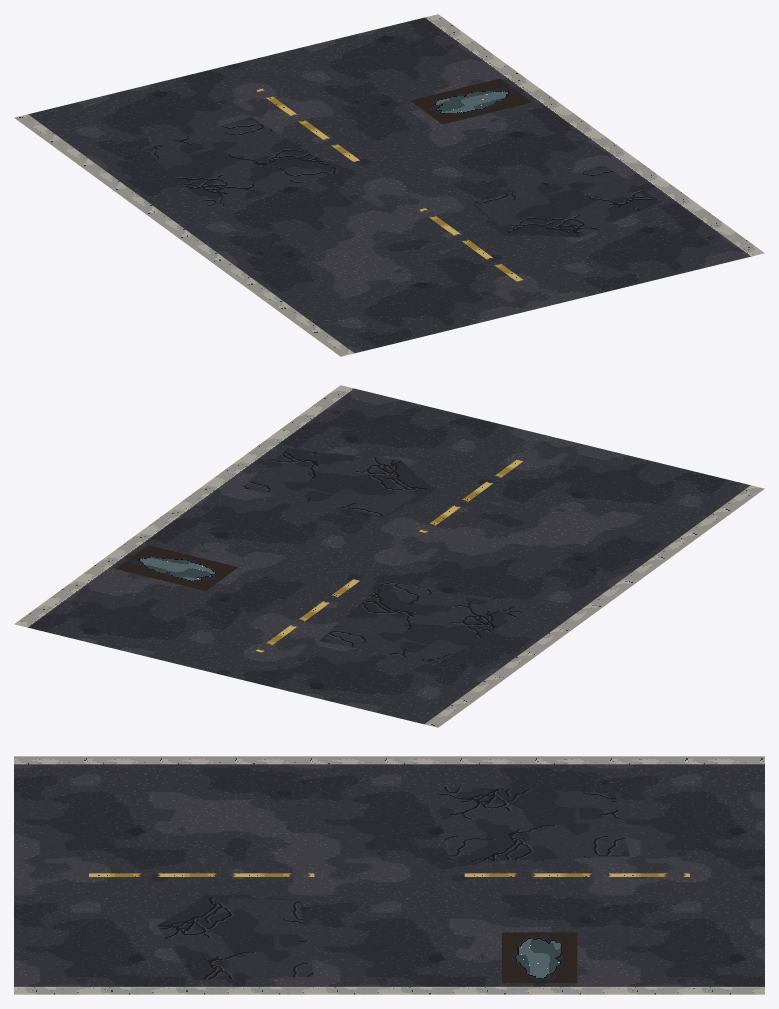
File: RD_Straight_2Lane_10m_Patched.obj
The picture shows the model from 3 angles, top to bottom: view 1: azimuth 30°, elevation 25°; view 2: azimuth 150°, elevation 25°; view 3: azimuth 270°, elevation 25°; orthographic projection. The views are drawn at different scales.
Parts seen in each view (by area): view 1: RD_Straight_2Lane_10m_Patched_Mesh_M_Road_Asphalt, RD_Straight_2Lane_10m_Patched_Mesh_M_Road_RoadPatch, RD_Straight_2Lane_10m_Patched_Mesh_M_Road_CurbConcrete, RD_Straight_2Lane_10m_Patched_Mesh_M_Town_Puddle, RD_Straight_2Lane_10m_Patched_Mesh_M_Road_MarkingYellow; view 2: RD_Straight_2Lane_10m_Patched_Mesh_M_Road_Asphalt, RD_Straight_2Lane_10m_Patched_Mesh_M_Road_RoadPatch, RD_Straight_2Lane_10m_Patched_Mesh_M_Road_CurbConcrete, RD_Straight_2Lane_10m_Patched_Mesh_M_Town_Puddle, RD_Straight_2Lane_10m_Patched_Mesh_M_Road_MarkingYellow; view 3: RD_Straight_2Lane_10m_Patched_Mesh_M_Road_Asphalt, RD_Straight_2Lane_10m_Patched_Mesh_M_Road_RoadPatch, RD_Straight_2Lane_10m_Patched_Mesh_M_Road_CurbConcrete, RD_Straight_2Lane_10m_Patched_Mesh_M_Town_Puddle, RD_Straight_2Lane_10m_Patched_Mesh_M_Road_MarkingYellow.
Boxes of the visible parts, box(x1,y1,x2,y2) form: RD_Straight_2Lane_10m_Patched_Mesh_M_Road_Asphalt: box(28, 17, 750, 353); RD_Straight_2Lane_10m_Patched_Mesh_M_Road_RoadPatch: box(144, 117, 660, 237); RD_Straight_2Lane_10m_Patched_Mesh_M_Road_CurbConcrete: box(14, 14, 764, 356); RD_Straight_2Lane_10m_Patched_Mesh_M_Town_Puddle: box(410, 78, 532, 124); RD_Straight_2Lane_10m_Patched_Mesh_M_Road_MarkingYellow: box(256, 89, 522, 281); RD_Straight_2Lane_10m_Patched_Mesh_M_Road_Asphalt: box(28, 388, 750, 724); RD_Straight_2Lane_10m_Patched_Mesh_M_Road_RoadPatch: box(241, 448, 527, 663); RD_Straight_2Lane_10m_Patched_Mesh_M_Road_CurbConcrete: box(14, 385, 764, 727); RD_Straight_2Lane_10m_Patched_Mesh_M_Town_Puddle: box(116, 545, 238, 590); RD_Straight_2Lane_10m_Patched_Mesh_M_Road_MarkingYellow: box(256, 460, 522, 652); RD_Straight_2Lane_10m_Patched_Mesh_M_Road_Asphalt: box(14, 764, 764, 986); RD_Straight_2Lane_10m_Patched_Mesh_M_Road_RoadPatch: box(157, 786, 629, 979); RD_Straight_2Lane_10m_Patched_Mesh_M_Road_CurbConcrete: box(14, 756, 764, 994); RD_Straight_2Lane_10m_Patched_Mesh_M_Town_Puddle: box(502, 932, 577, 982); RD_Straight_2Lane_10m_Patched_Mesh_M_Road_MarkingYellow: box(89, 873, 689, 876).
Bounding box in the file's own units: 7.5 × 0.006 × 10.
Materials: 5 (5 with a texture image).
